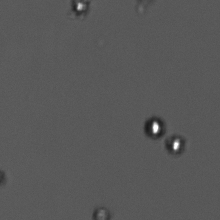Living Cell: (143, 115, 166, 139), (164, 134, 187, 155), (70, 1, 91, 16)
